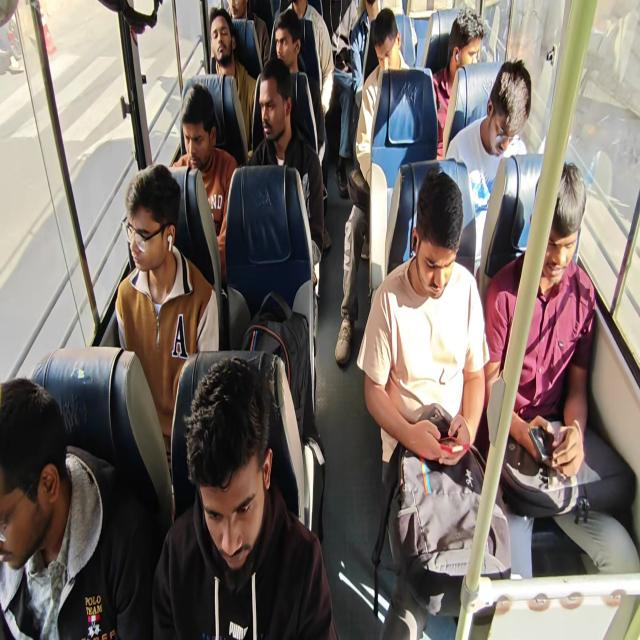person: (174, 398, 286, 640), (0, 369, 73, 640), (400, 186, 478, 377), (545, 181, 589, 369), (488, 77, 531, 204), (118, 185, 151, 337), (269, 62, 303, 208), (310, 0, 362, 90), (447, 6, 491, 95), (187, 80, 224, 179), (376, 11, 406, 113), (271, 24, 311, 100), (212, 12, 242, 85), (359, 0, 394, 62), (277, 0, 314, 32), (218, 0, 246, 32)
